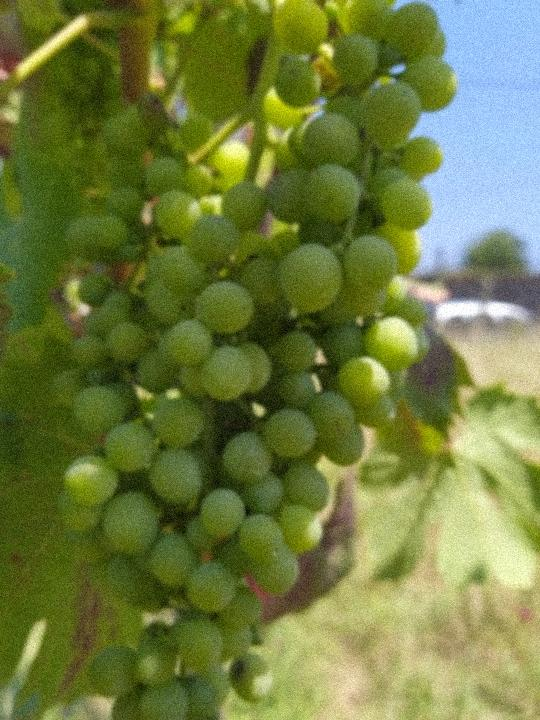grape: (45, 0, 456, 720)
